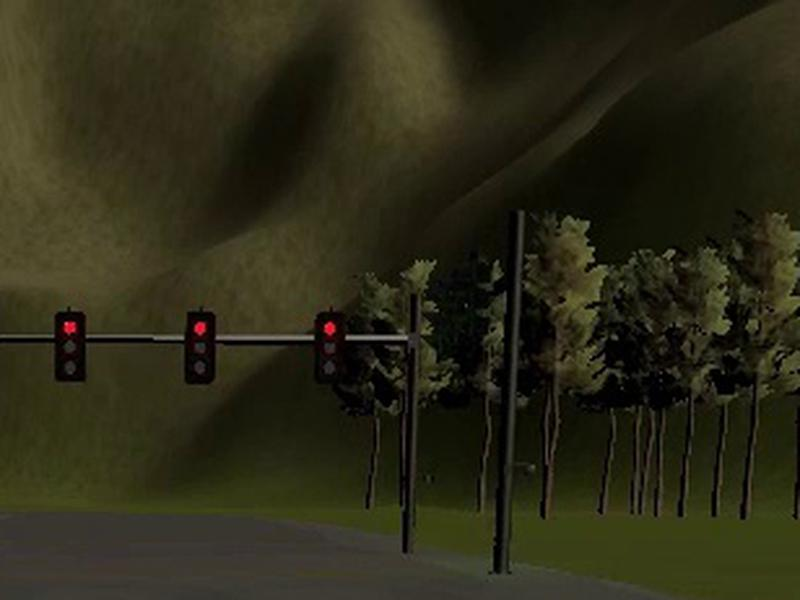Red: (184, 311, 216, 384), (314, 311, 345, 384), (55, 312, 87, 382)
